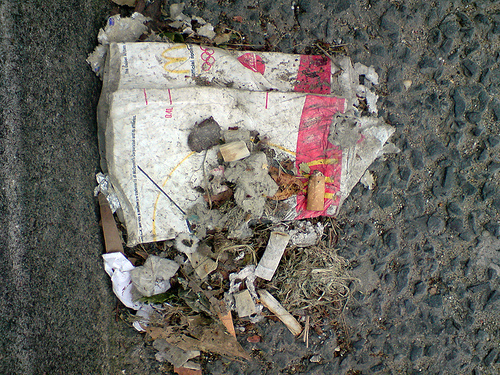litter: (86, 12, 386, 243), (215, 243, 302, 339), (96, 248, 144, 310)
